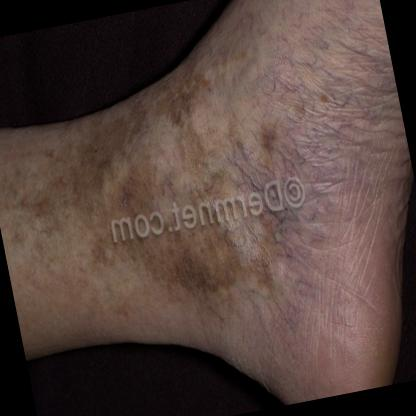Eczema: (196, 216, 255, 312), (233, 210, 296, 296), (144, 62, 218, 134), (153, 229, 211, 306), (185, 156, 242, 233), (64, 207, 119, 283), (102, 164, 156, 238), (107, 230, 162, 302), (205, 28, 262, 96), (76, 112, 130, 180), (42, 122, 90, 197), (18, 178, 66, 249), (94, 265, 148, 328), (244, 100, 294, 167), (148, 166, 198, 231), (57, 166, 113, 218), (164, 110, 214, 167), (114, 94, 160, 154), (10, 253, 62, 304), (0, 207, 43, 267), (128, 134, 176, 181), (0, 151, 34, 215), (304, 70, 340, 112)
